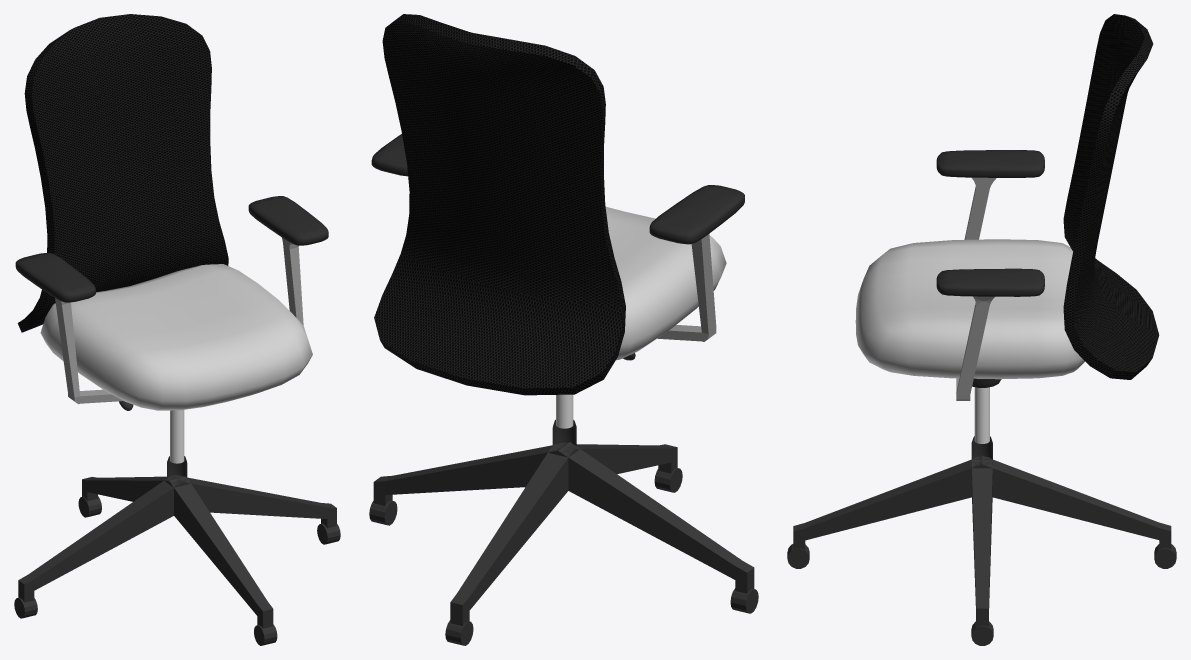
The model's file is OfficeChair.fbx.
3 renders of one model, left to right at view 1: azimuth 30°, elevation 25°; view 2: azimuth 150°, elevation 25°; view 3: azimuth 270°, elevation 25°, orthographic. The views are drawn at different scales.
Visible parts, largest first — view 1: Plane, Cube, Cube.002, Cube.003, Cube.004, Cube.005, Cylinder; view 2: Plane, Cube.002, Cube, Cube.003, Cube.004, Cube.005, Cylinder, Cylinder.007, Cylinder.005, Cylinder.006; view 3: Cube, Plane, Cube.003, Cube.004, Cube.002, Cube.005, Cylinder.
Boxes of the visible parts, left/top/right/bottom form: Plane: left=17, top=14, right=228, bottom=332; Cube: left=40, top=264, right=312, bottom=410; Cube.002: left=18, top=474, right=336, bottom=602; Cube.003: left=82, top=476, right=273, bottom=628; Cube.004: left=15, top=196, right=328, bottom=302; Cube.005: left=55, top=237, right=303, bottom=404; Cylinder: left=170, top=410, right=184, bottom=463; Plane: left=374, top=14, right=625, bottom=395; Cube.002: left=373, top=442, right=754, bottom=593; Cube: left=605, top=206, right=726, bottom=360; Cube.003: left=450, top=444, right=677, bottom=626; Cube.004: left=371, top=134, right=744, bottom=244; Cube.005: left=657, top=233, right=716, bottom=341; Cylinder: left=556, top=394, right=573, bottom=428; Cylinder.007: left=730, top=588, right=758, bottom=613; Cylinder.005: left=445, top=620, right=473, bottom=645; Cylinder.006: left=369, top=500, right=397, bottom=525; Cube: left=855, top=239, right=1084, bottom=379; Plane: left=1063, top=14, right=1159, bottom=379; Cube.003: left=793, top=455, right=1171, bottom=549; Cube.004: left=936, top=150, right=1044, bottom=296; Cube.002: left=971, top=459, right=992, bottom=626; Cube.005: left=956, top=177, right=996, bottom=400; Cylinder: left=974, top=387, right=989, bottom=443.
Size of the model in its own units: 68.94 by 105 by 70.35.
